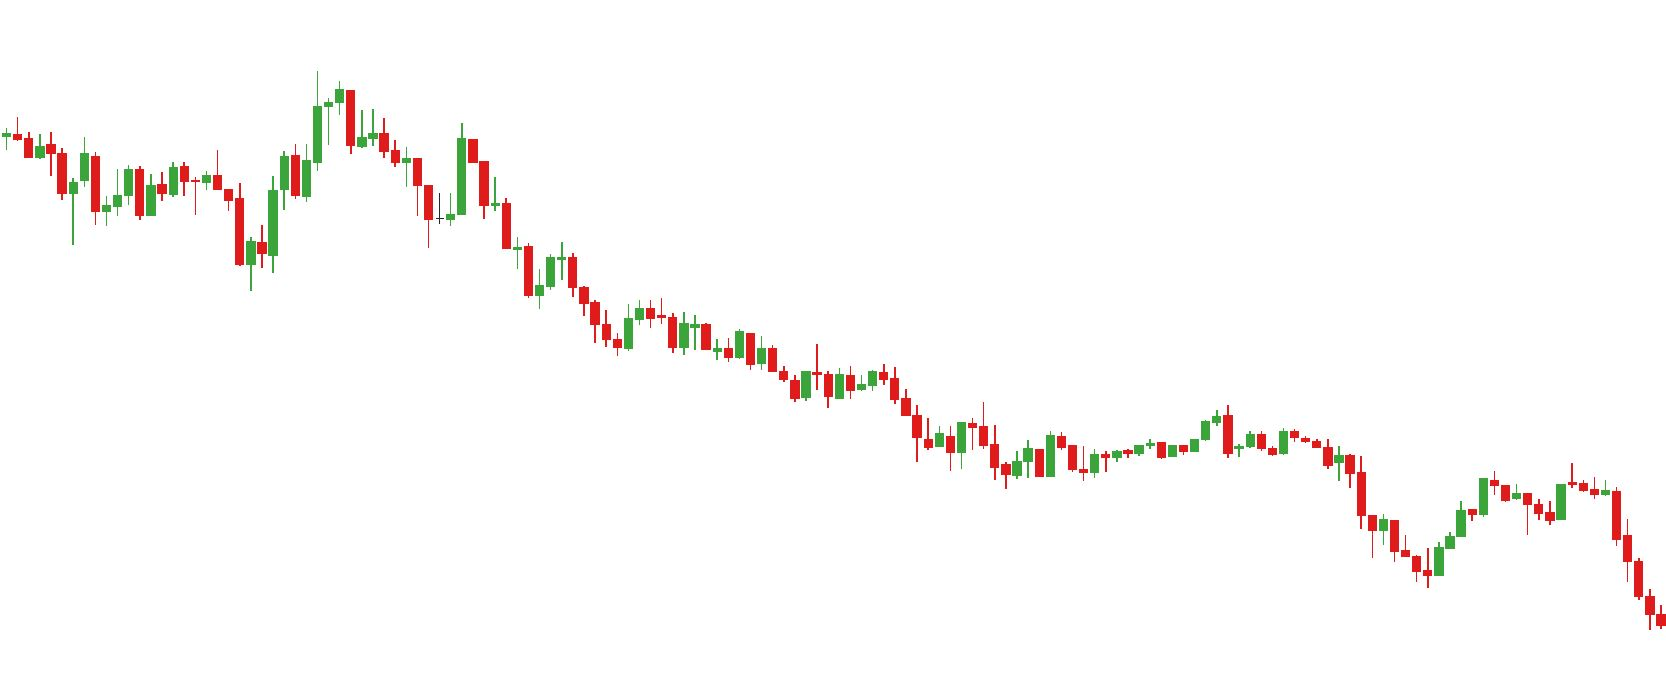buy: (67, 167, 280, 294)
sell: (1477, 462, 1577, 516)
